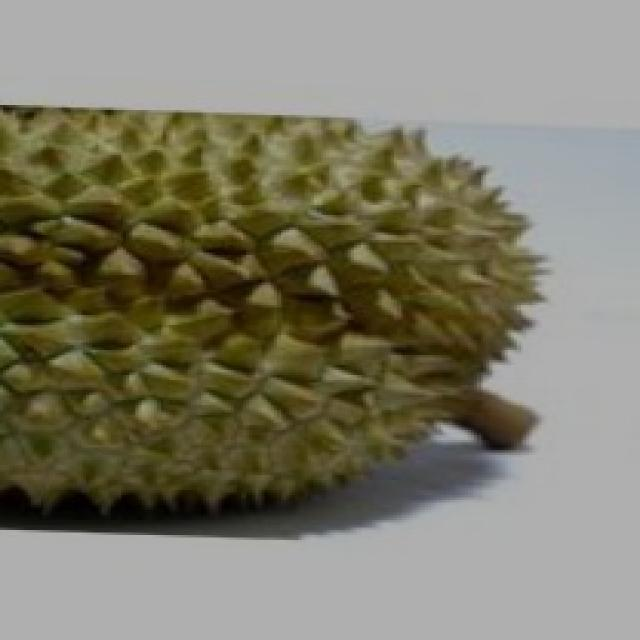fruit: (184, 128, 590, 558), (0, 110, 342, 538)
